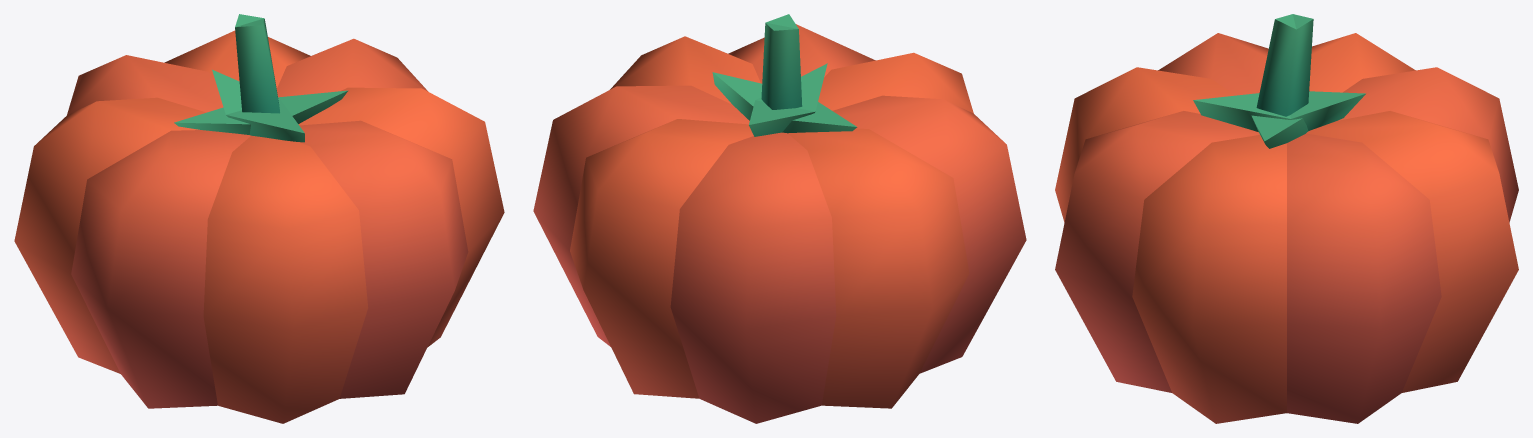
The model's file is Pumpkin.glb.
3 views of the same model, side by side, from view 1: azimuth 30°, elevation 25°; view 2: azimuth 150°, elevation 25°; view 3: azimuth 270°, elevation 25° (orthographic).
Parts seen in each view (by area): view 1: Pumpkin; view 2: Pumpkin; view 3: Pumpkin.
Part boxes in pixels (left/top/right/bottom): Pumpkin: left=14, top=14, right=504, bottom=423; Pumpkin: left=533, top=14, right=1026, bottom=423; Pumpkin: left=1055, top=14, right=1518, bottom=423.
Bounding box in the file's own units: 0.9418 × 0.7417 × 0.9418.
1 material, 1 textured.
